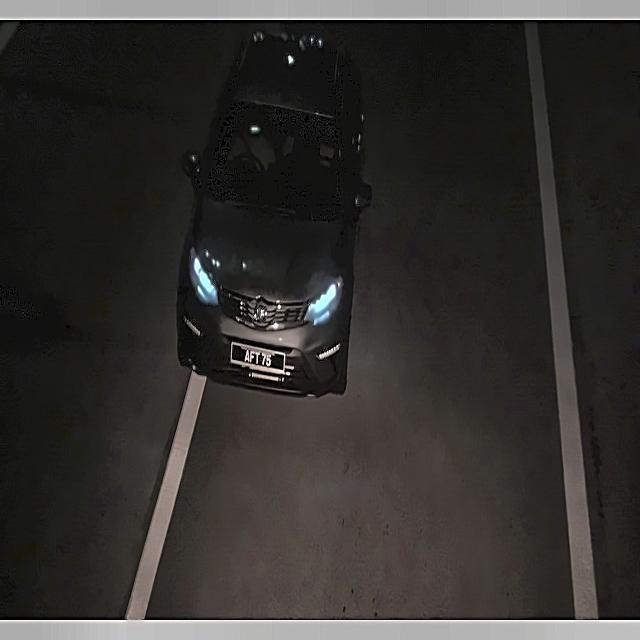car: (229, 339, 287, 382)
